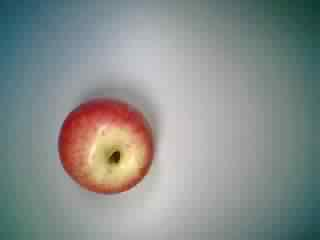apple: (53, 92, 157, 196)
